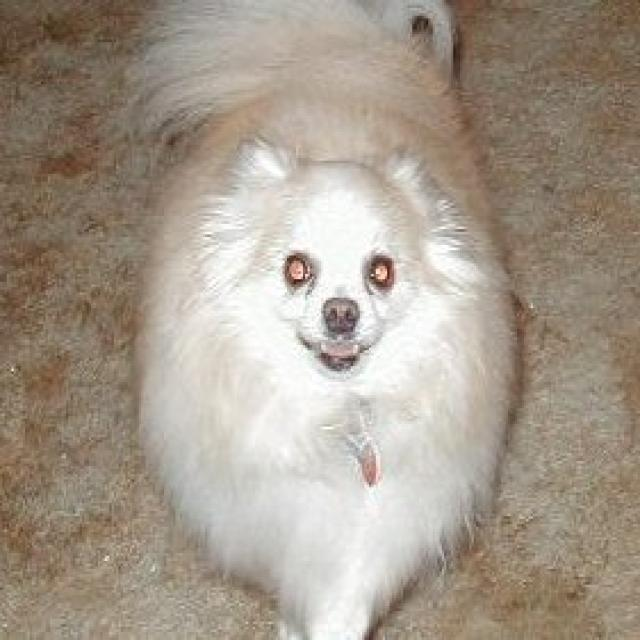dog-pomeranian: (128, 3, 515, 635)
